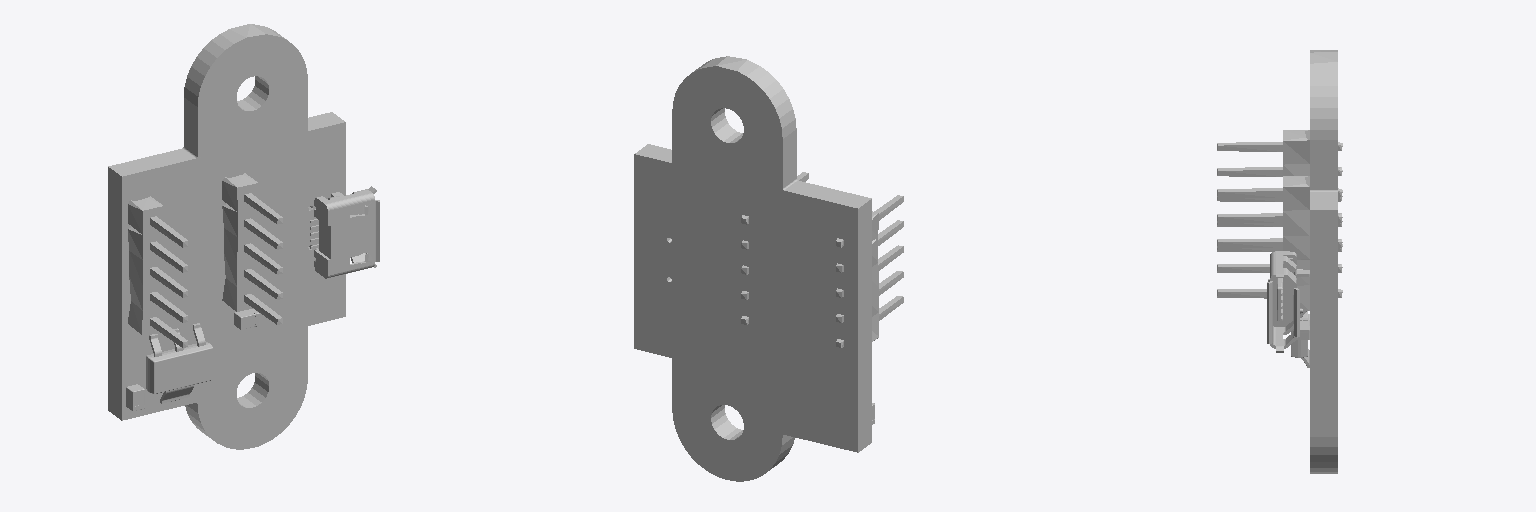
Rendered from OBJ_PCB_USB micro B RA breakout.obj.
3 views of the same model, side by side, from view 1: azimuth 30°, elevation 25°; view 2: azimuth 150°, elevation 25°; view 3: azimuth 270°, elevation 25° (orthographic).
Bounding box in the file's own units: 99.25 × 164 × 45.17.